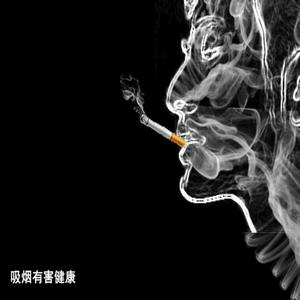cigarette: (140, 113, 193, 150)
